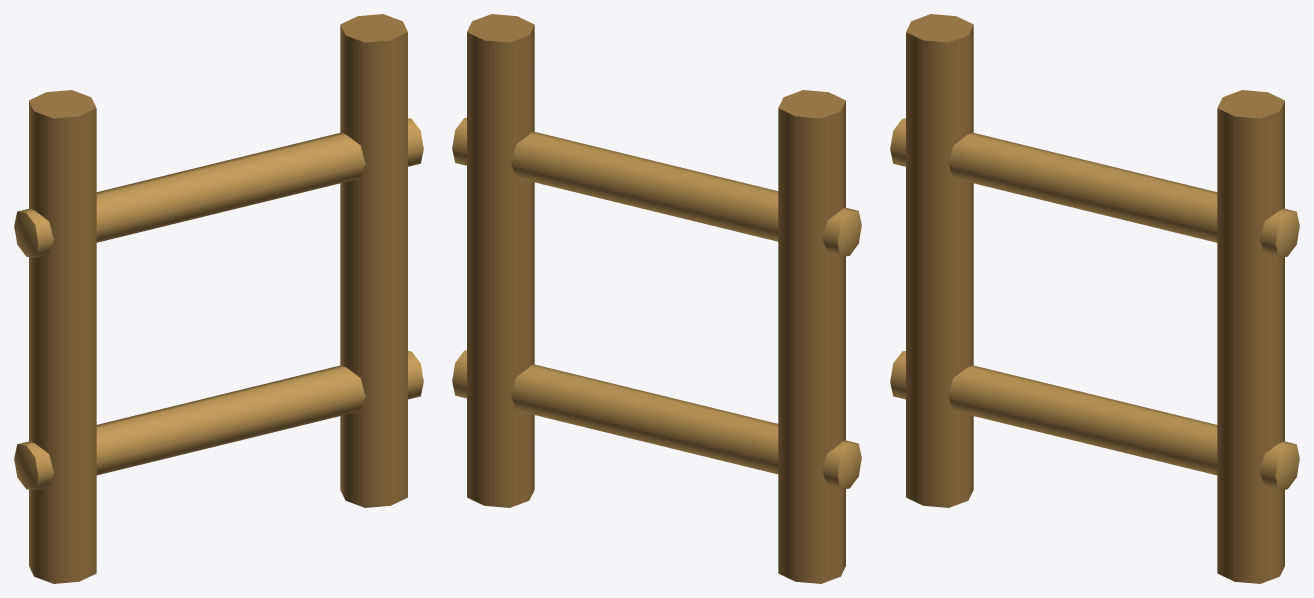
Rendered from Stairs.gltf.
3 views of the same model, side by side, from view 1: azimuth 30°, elevation 25°; view 2: azimuth 150°, elevation 25°; view 3: azimuth 330°, elevation 25° (orthographic).
Parts seen in each view (by area): view 1: Stairs; view 2: Stairs; view 3: Stairs.
Part boxes in pixels (x1,y1,x2,y2): Stairs: [14, 14, 423, 583]; Stairs: [452, 14, 861, 583]; Stairs: [890, 14, 1299, 583].
Size of the model in its own units: 1.77 by 2 by 0.2575.
